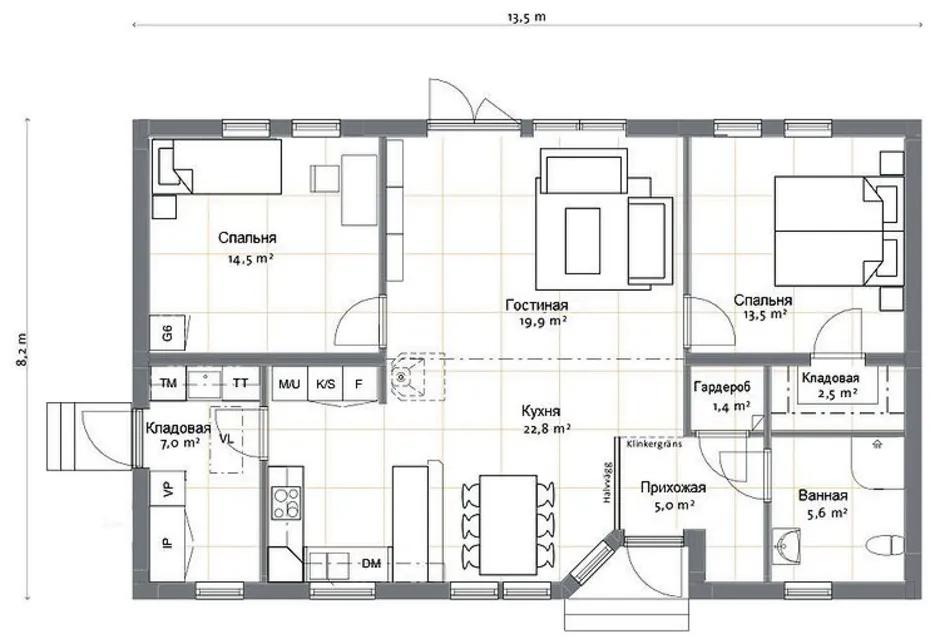bathroom: (769, 437, 905, 583)
bedroom: (149, 136, 381, 355), (691, 137, 906, 354)
dining_room: (386, 359, 683, 582)
hallway: (619, 437, 765, 583)
kitchen: (268, 366, 394, 582)
living_room: (386, 136, 684, 359)
utility_room: (150, 365, 261, 582), (770, 365, 905, 430)
walk_in_closet: (690, 365, 765, 430)
